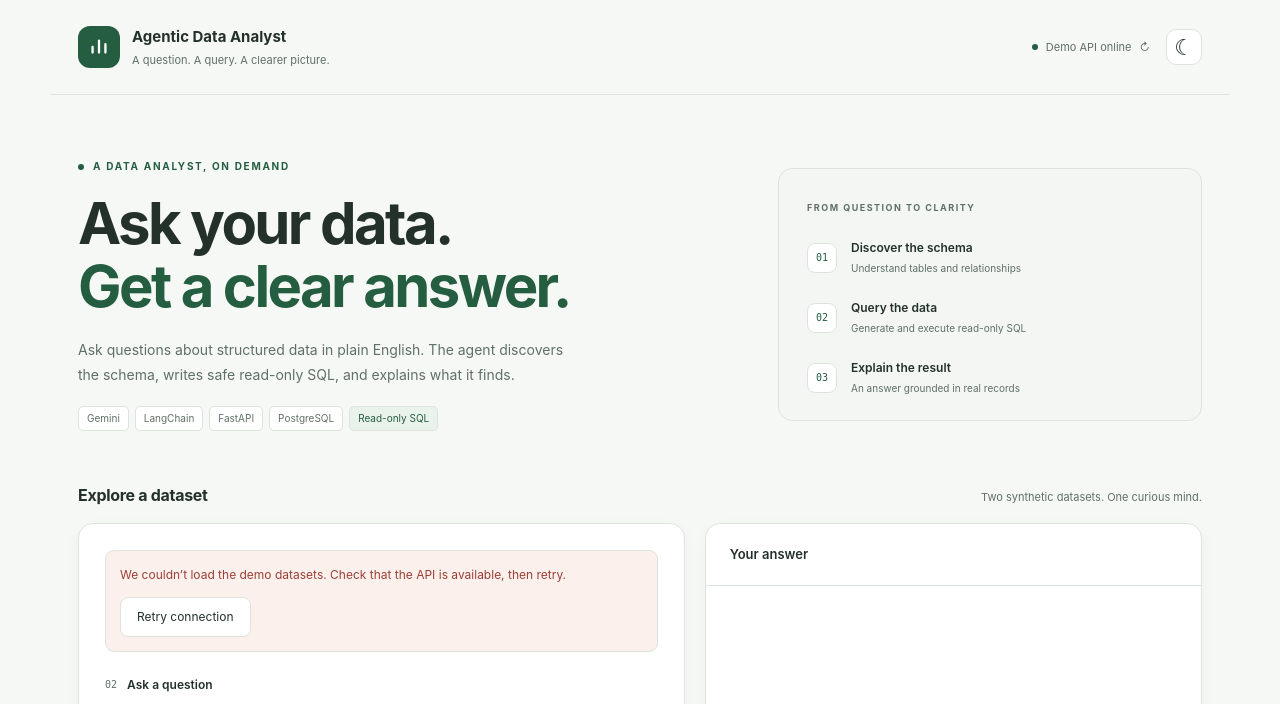
Test: public analyst workspace › recovers dataset discovery through a manual connection retry
Expected: the message shows "We couldn’t load the demo datasets", [120,567,566,582]
Click the button "Retry connection". click: (185, 617)
box: [120,597,250,637]
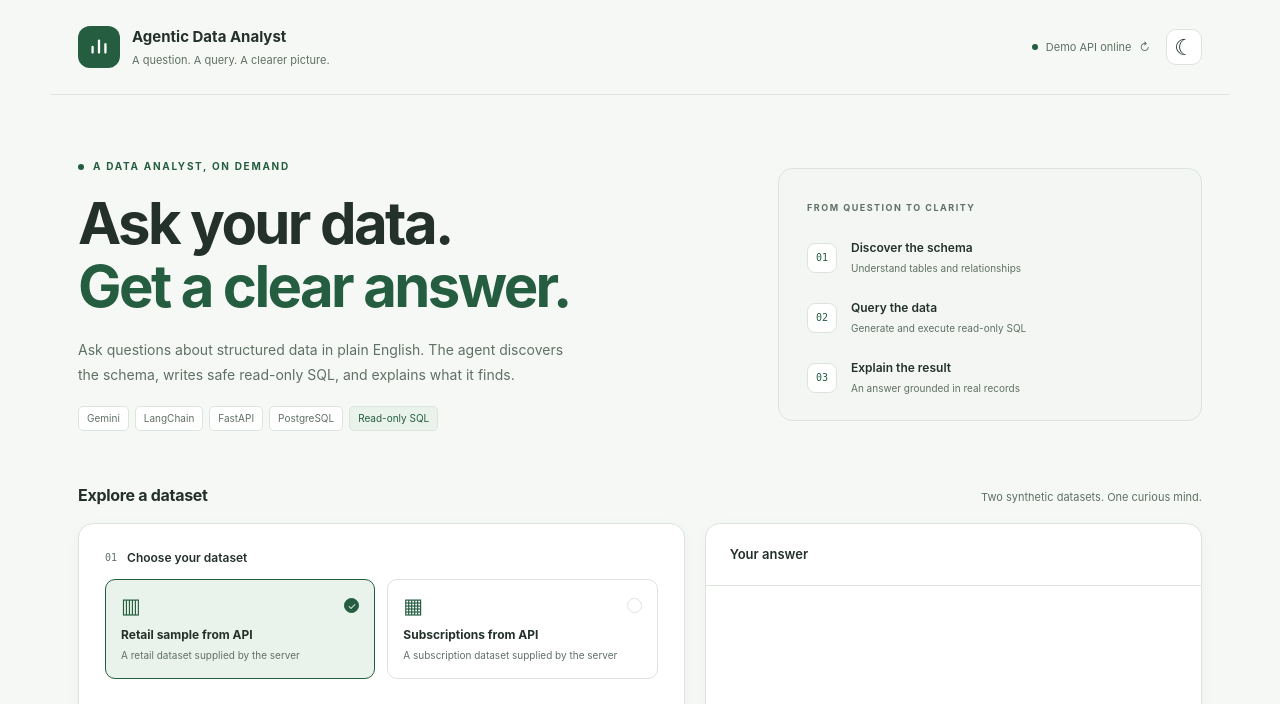
Expected: the radio button labelled "Retail sample" is shown, [105,579,375,679]
Expected: the message is gone
